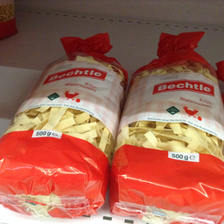pasta: (1, 32, 129, 215), (112, 31, 224, 220)
